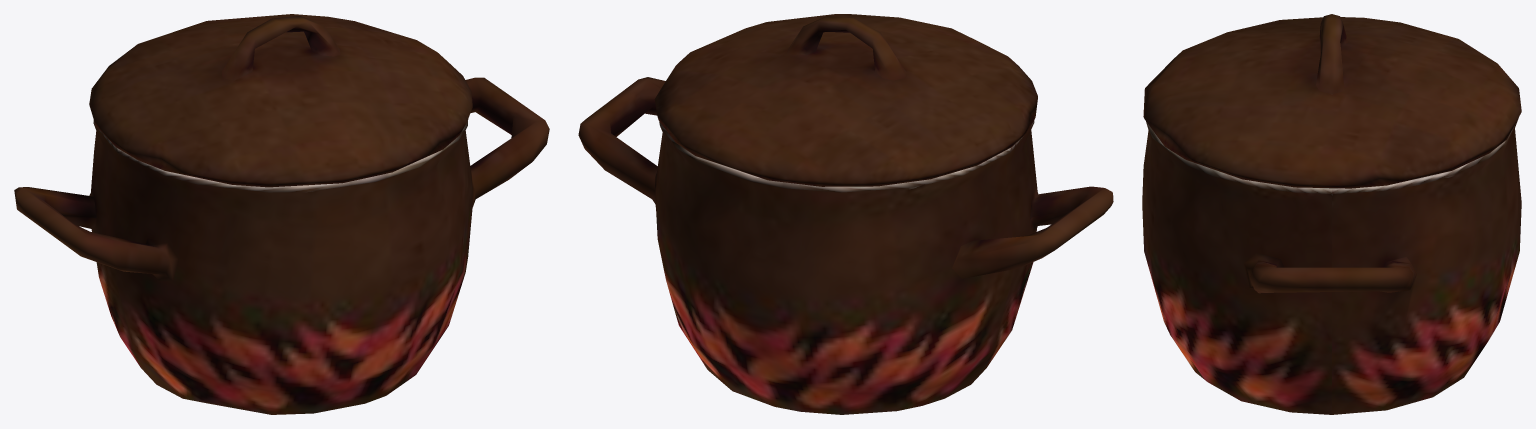
Rendered from pot_enamel_01.gltf.
3 renders of one model, left to right at view 1: azimuth 30°, elevation 25°; view 2: azimuth 150°, elevation 25°; view 3: azimuth 270°, elevation 25°, orthographic.
Visible parts, largest first — view 1: pot_enamel_01_base, pot_enamel_01_lid; view 2: pot_enamel_01_base, pot_enamel_01_lid; view 3: pot_enamel_01_base, pot_enamel_01_lid.
Boxes of the visible parts, x1=… form: pot_enamel_01_base: x1=14, y1=77, x2=549, y2=414; pot_enamel_01_lid: x1=89, y1=14, x2=472, y2=187; pot_enamel_01_base: x1=578, y1=77, x2=1113, y2=414; pot_enamel_01_lid: x1=654, y1=14, x2=1037, y2=186; pot_enamel_01_base: x1=1142, y1=118, x2=1521, y2=414; pot_enamel_01_lid: x1=1143, y1=14, x2=1521, y2=188.
Bounding box in the file's own units: 0.2625 × 0.178 × 0.1796.
1 material, 1 textured.
